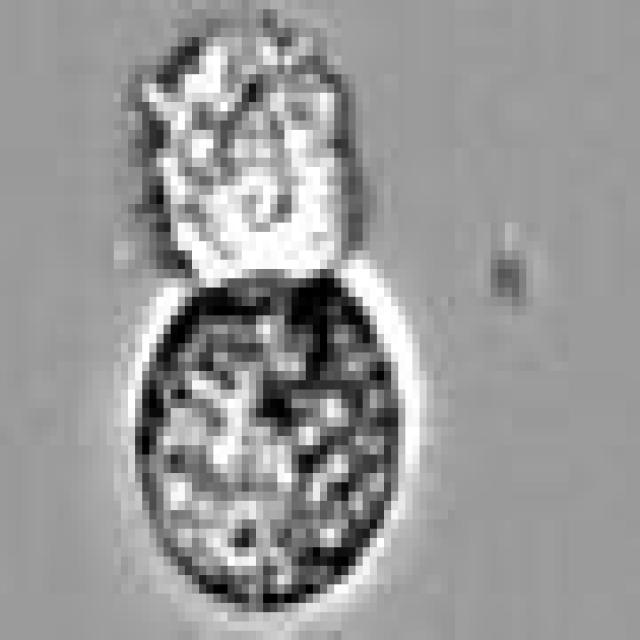Cancer Cell: (135, 269, 405, 612)
WBC: (142, 18, 363, 297)
